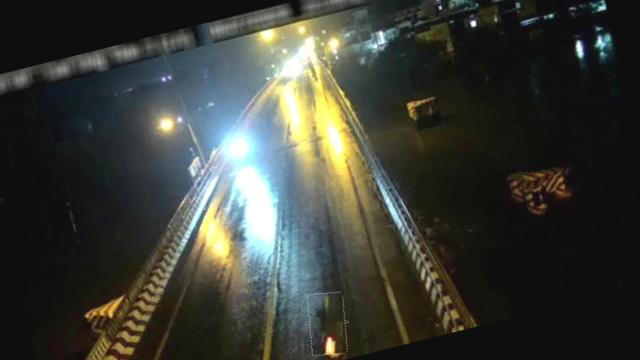Bike: (301, 289, 354, 360)
